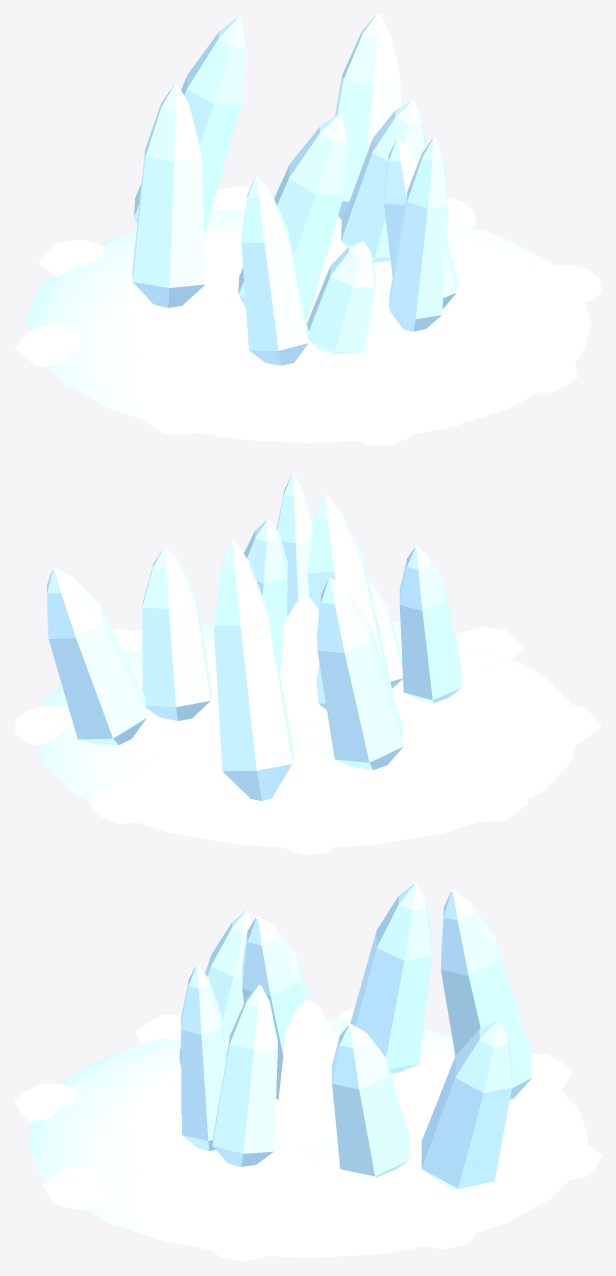
The model's file is vfx-mesh-library-ice-patch-shards-ce5038ee__21896.glb.
3 views of the same model, one above another, from view 1: azimuth 30°, elevation 25°; view 2: azimuth 150°, elevation 25°; view 3: azimuth 270°, elevation 25° (orthographic). The views are drawn at different scales.
Parts seen in each view (by area): view 1: ice-patch-shards; view 2: ice-patch-shards; view 3: ice-patch-shards.
Part boxes in pixels (x1,y1,x2,y2): ice-patch-shards: [14, 14, 601, 445]; ice-patch-shards: [14, 474, 601, 854]; ice-patch-shards: [14, 883, 601, 1261].
Size of the model in its own units: 1.04 by 0.5058 by 1.05.
